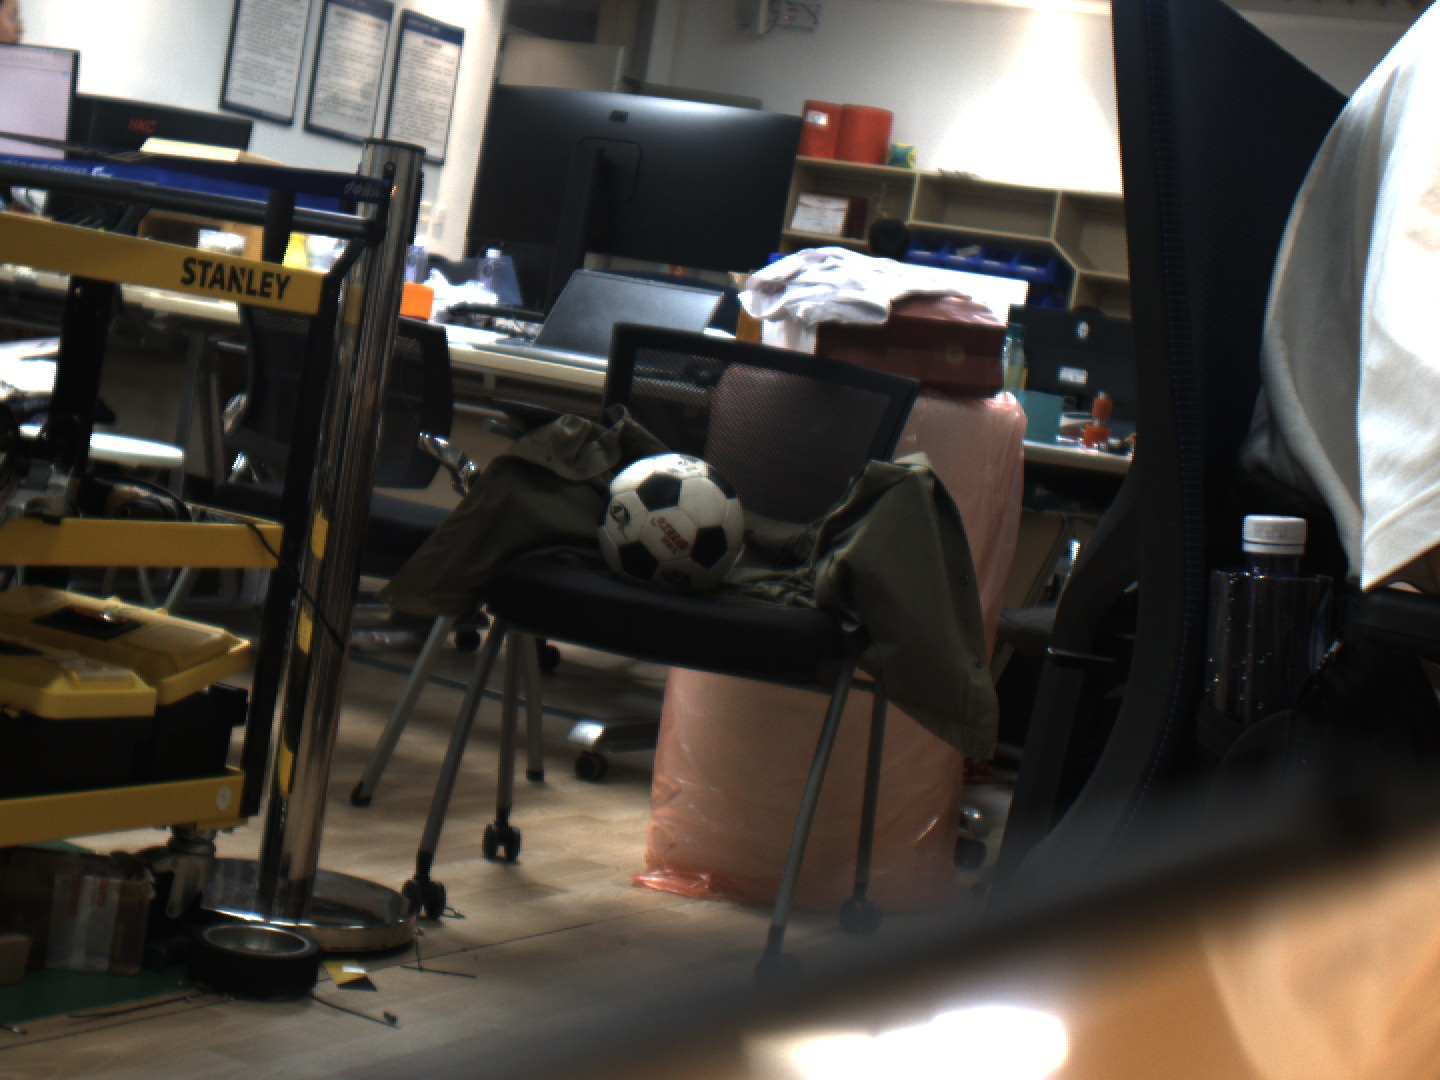ball: (596, 453, 746, 598)
